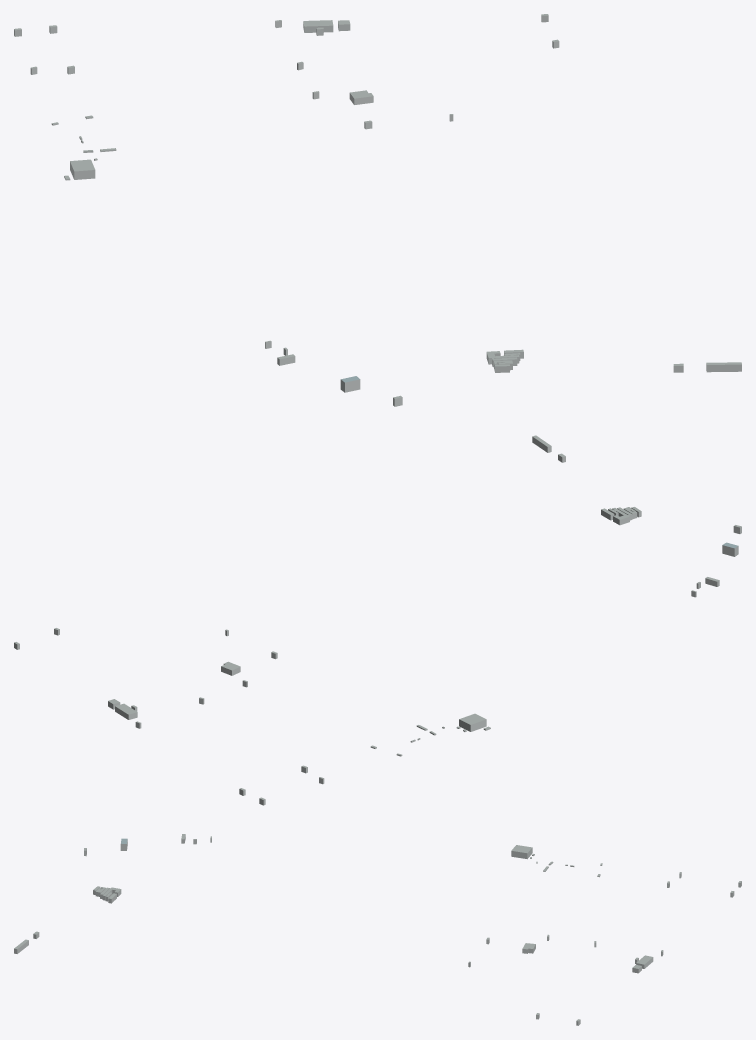
File: far.glb
3 renders of one model, top to bottom at view 1: azimuth 30°, elevation 25°; view 2: azimuth 150°, elevation 25°; view 3: azimuth 270°, elevation 25°, orthographic. The views are drawn at different scales.
Bounding box in the file's own units: 1070 × 18.8 × 1758.
